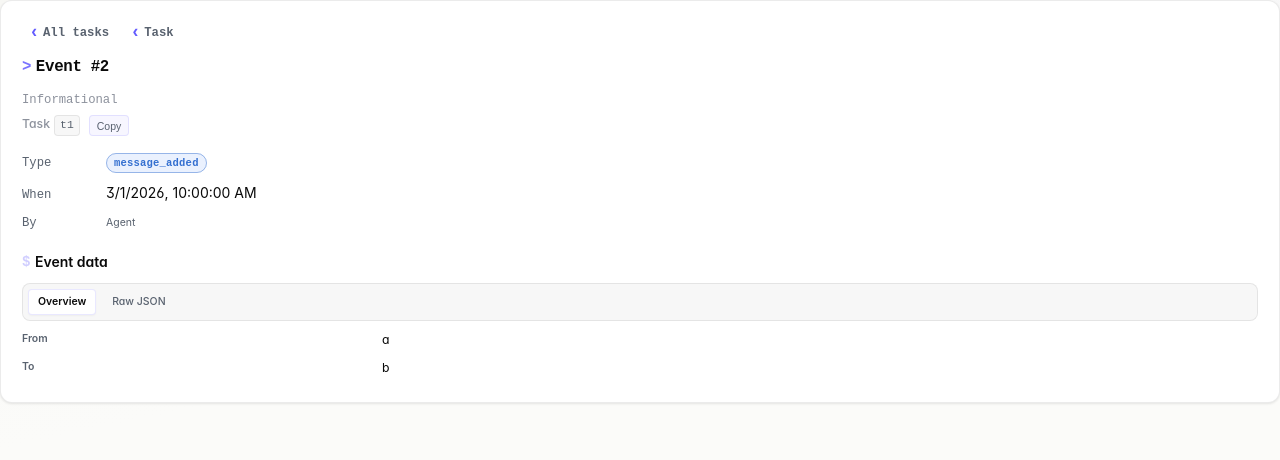
Test: TaskEventDetailPage › loads one event and shows type, time, actor, overview fields, and raw JSON
Expected: the heading "Event #2" is shown, [36, 58, 109, 76]
Expected: the text "t1" is shown, [54, 116, 80, 136]
Click the tab "Raw JSON" at (139, 302), box [102, 289, 176, 315]
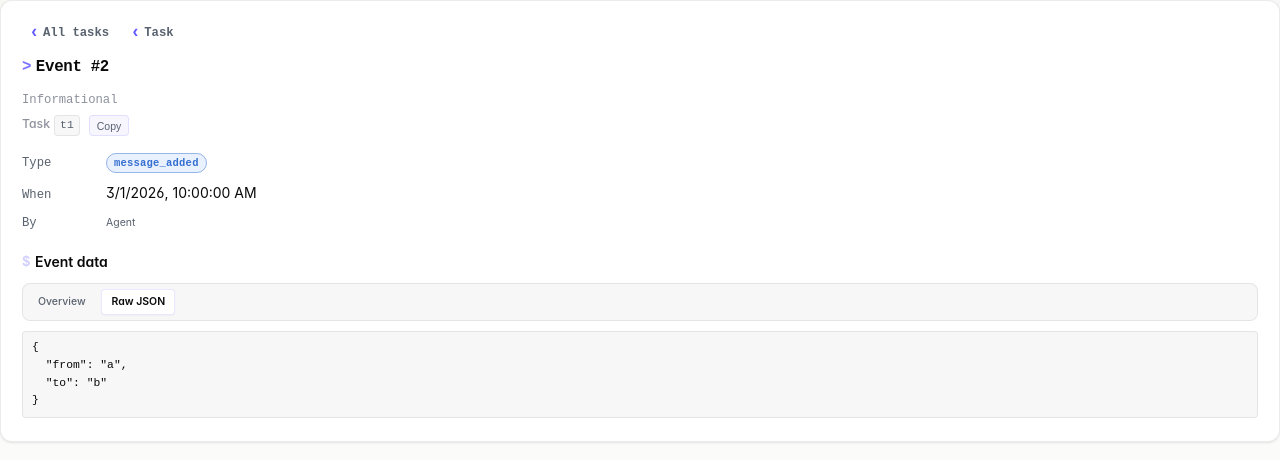
Expected: the text "{ \"from\": \"a\", \"to\": \"b\" }" is shown, [22, 331, 1258, 418]
